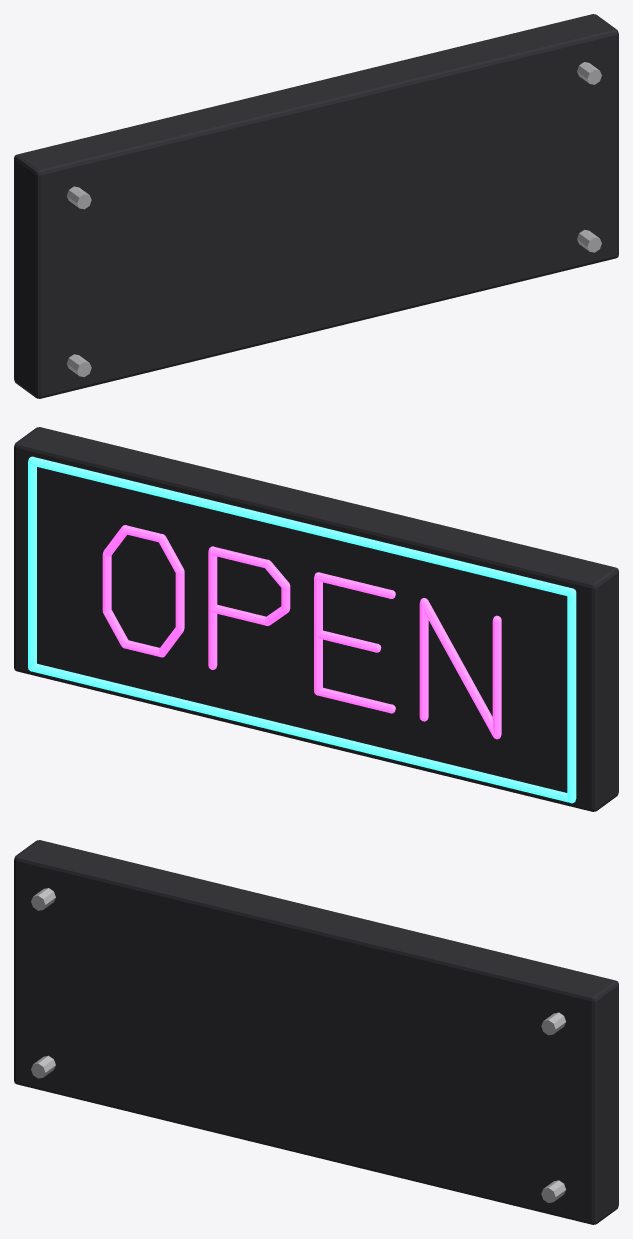
File: neon_sign_open.glb
The picture shows the model from 3 angles, top to bottom: view 1: azimuth 30°, elevation 25°; view 2: azimuth 150°, elevation 25°; view 3: azimuth 330°, elevation 25°; orthographic projection.
Visible parts, largest first — view 1: neon_sign_open; view 2: neon_sign_open; view 3: neon_sign_open.
Part boxes in pixels (bbox=[...]): neon_sign_open: bbox=[14, 14, 618, 398]; neon_sign_open: bbox=[14, 427, 618, 811]; neon_sign_open: bbox=[14, 840, 618, 1224].
Size of the model in its own units: 1.6 by 0.6 by 0.189.
